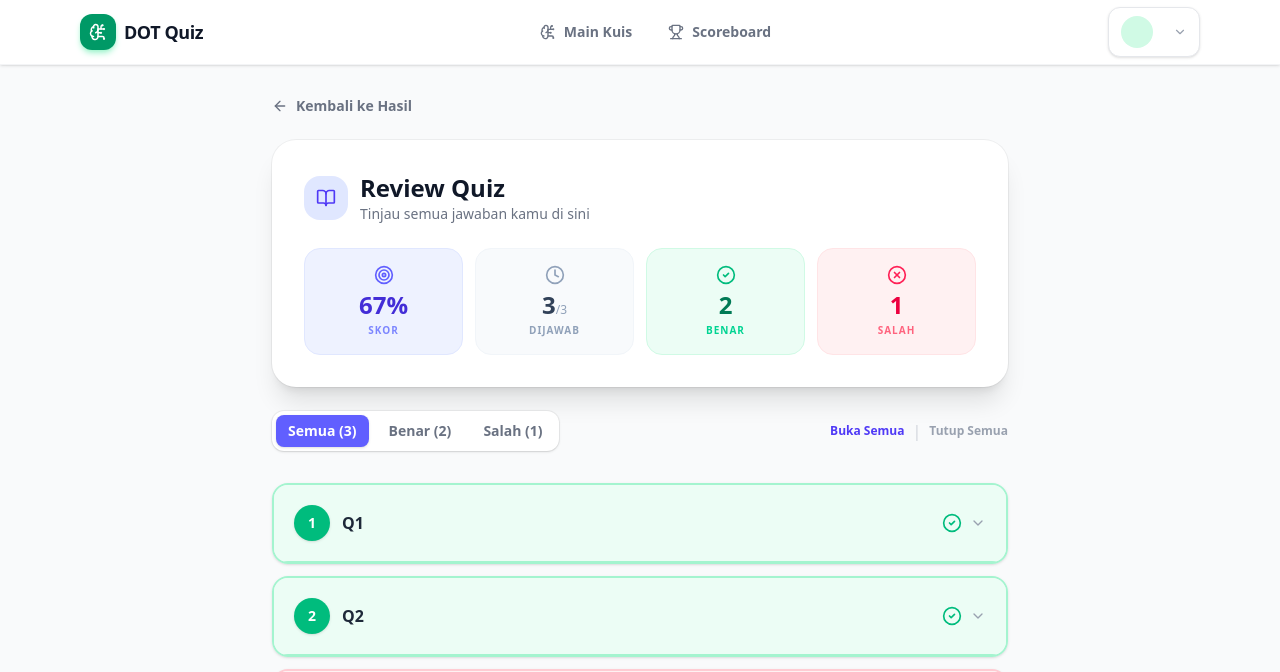
Test: QuizReview Page › filter "Salah" hanya menampilkan soal yang dijawab salah
What coordinates should you click on to do the following:
click the button "Salah (1)"
I would click on:
 (513, 431)
Its box is top-left (471, 415), bottom-right (555, 447).
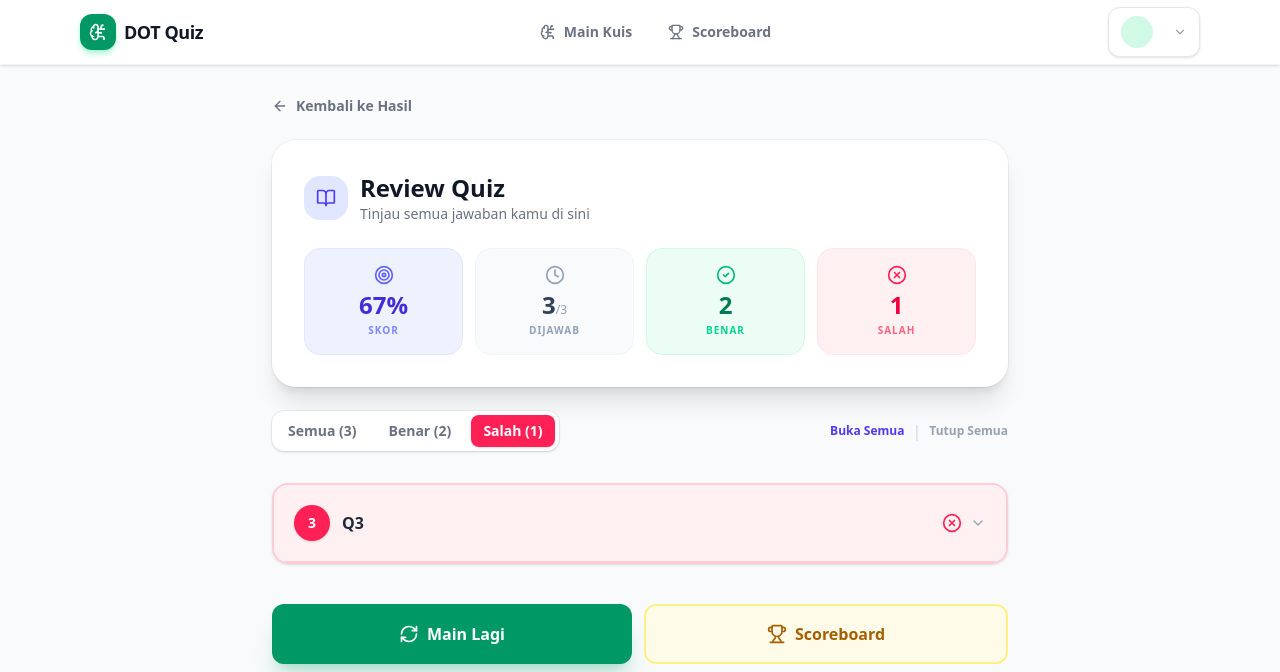
Expected: the text "Q3" is shown, top-left (342, 512), bottom-right (364, 534)
Expected: the button "Q1" is gone
Expected: the button "Q2" is gone
